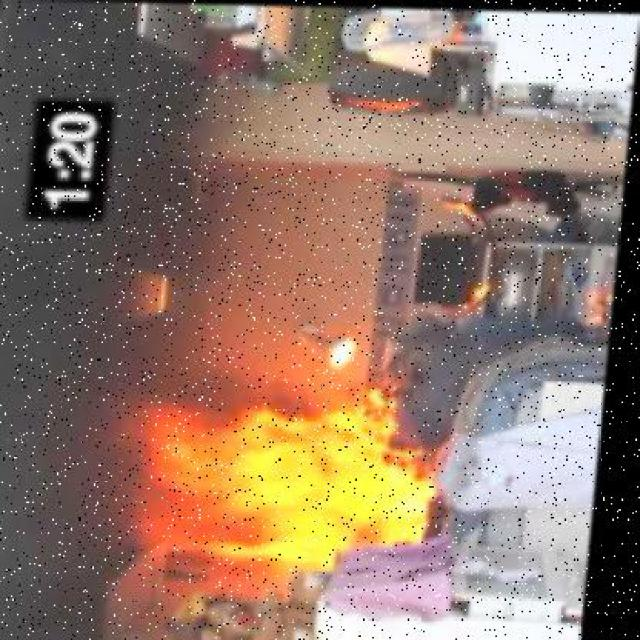fire: (114, 373, 454, 607)
